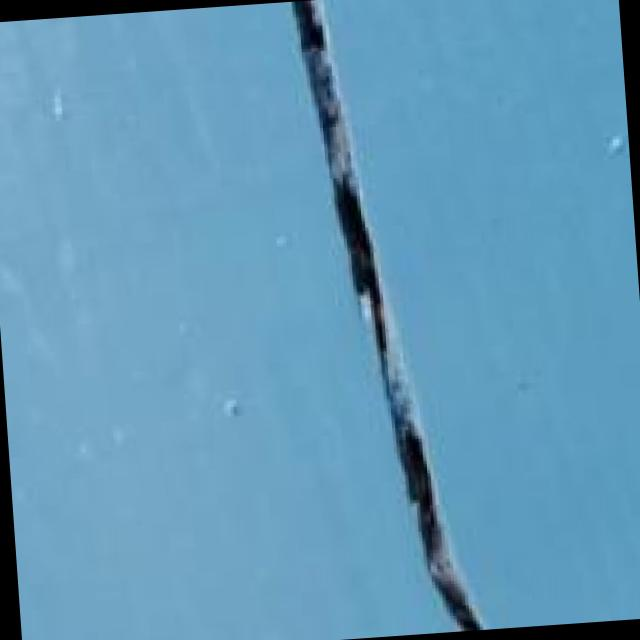crack: (262, 0, 504, 638)
